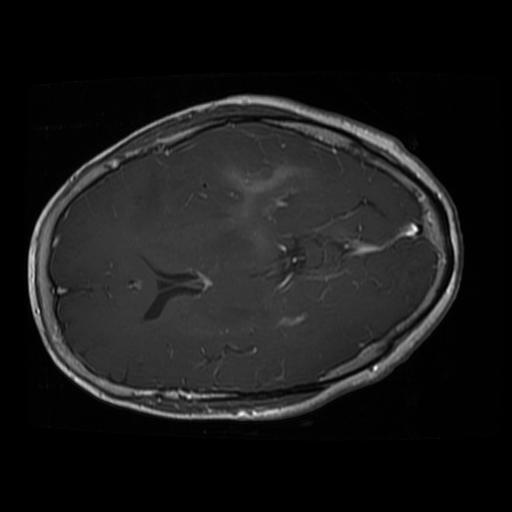glioma: (221, 162, 316, 270)
